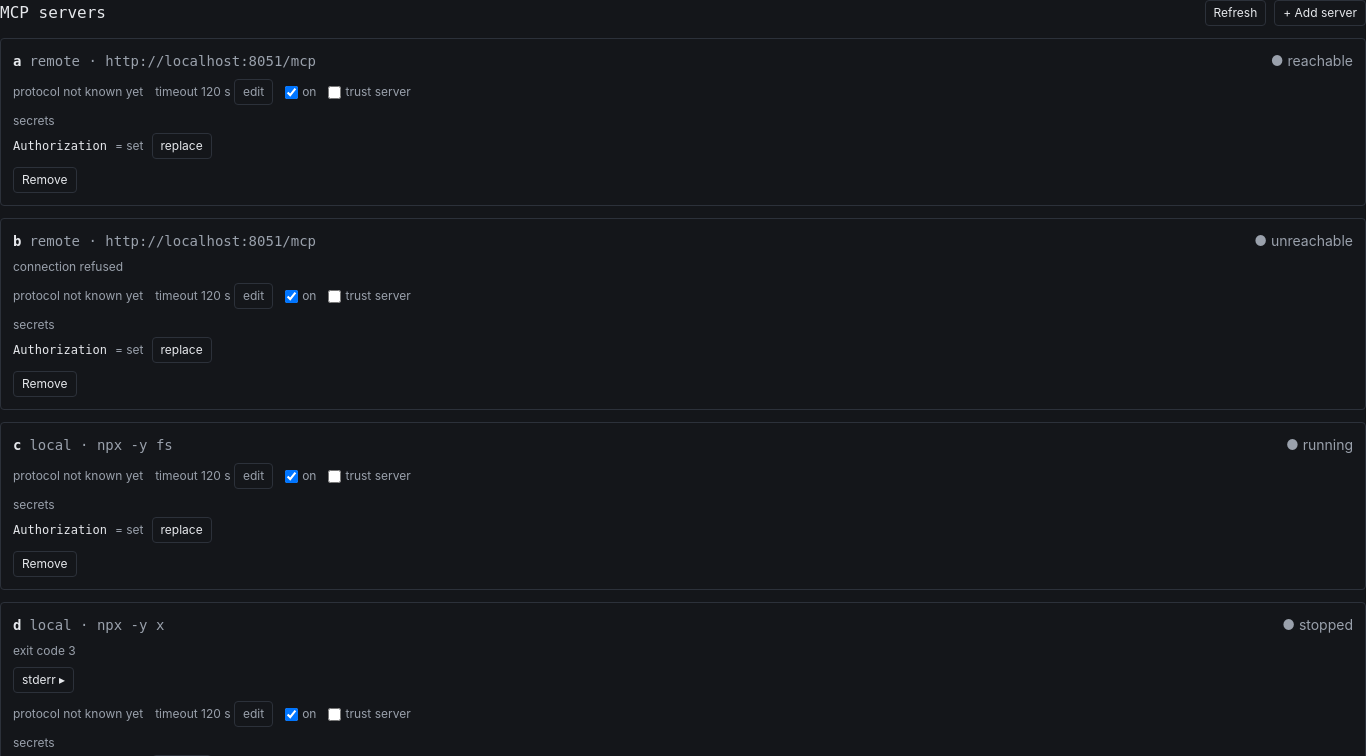
Test case: renders every server status
Expected: the text "reachable" is shown, [1288,52,1353,69]
Expected: the text "unreachable" is shown, [1271,232,1353,249]
Click the button "stderr ▸" at {"x": 44, "y": 680}, box [13,667,74,693]
(page scrolled)
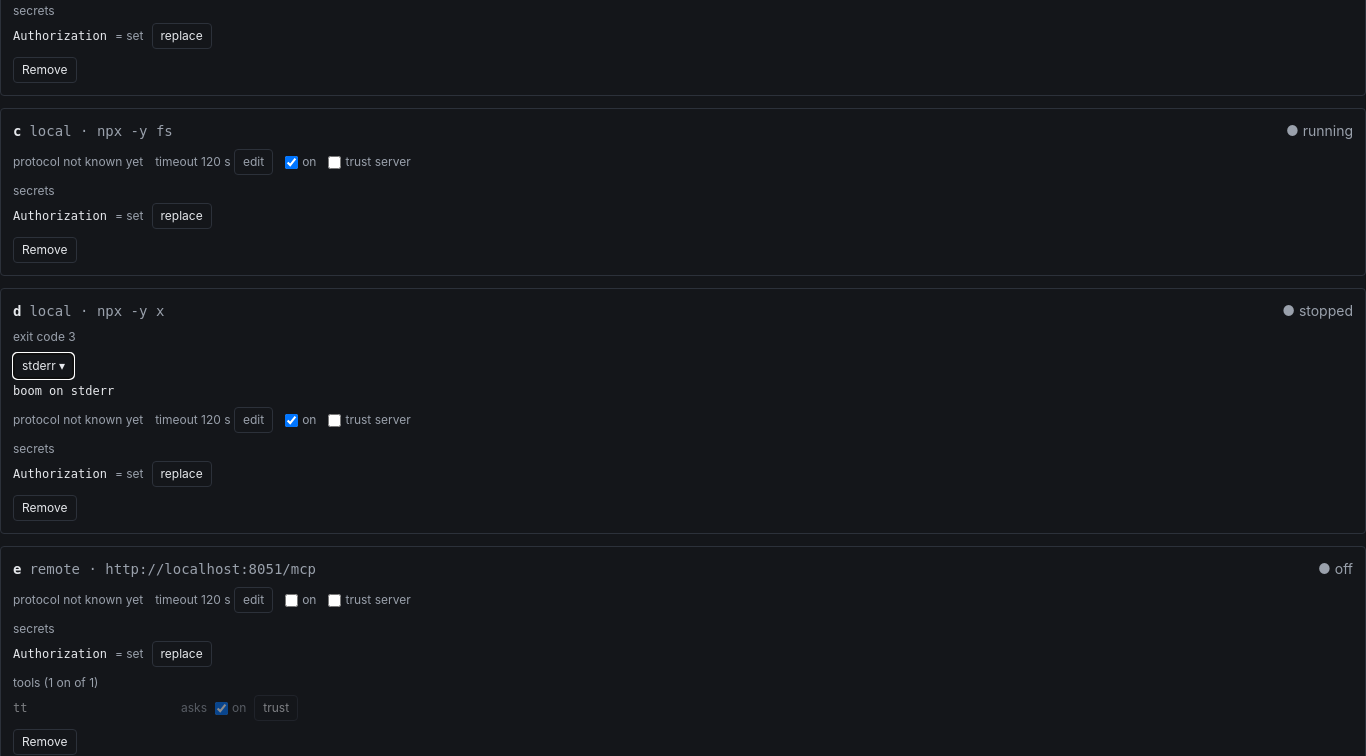
Expected: the text "off" is shown, [1335,560,1353,577]
Now the text "boom on stderr" is shown, box [13,384,114,398]
